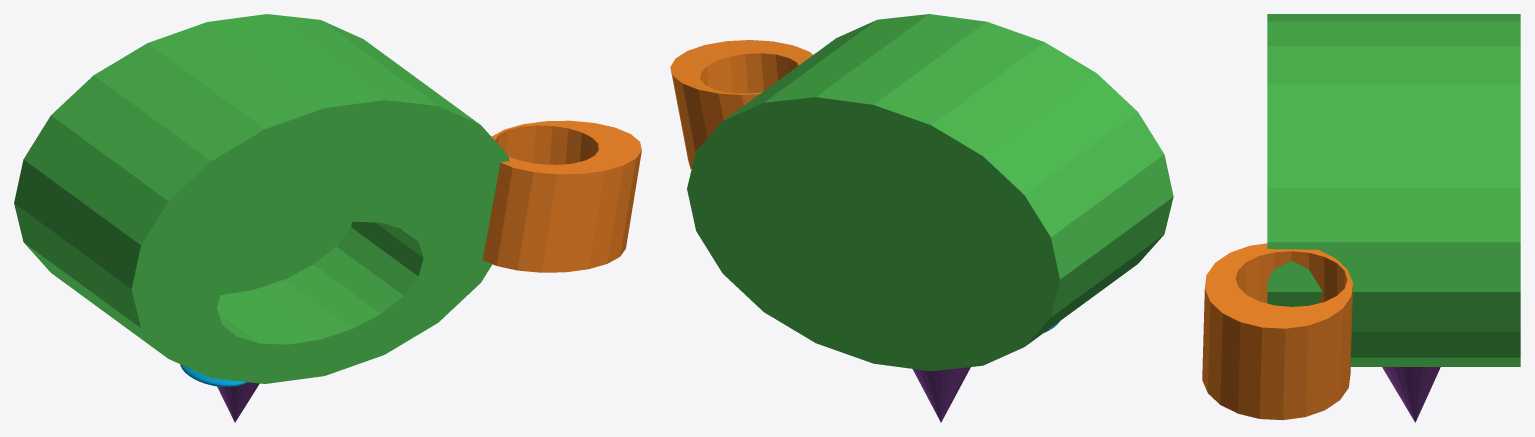
File: tinker.obj
3 views of the same model, side by side, from view 1: azimuth 30°, elevation 25°; view 2: azimuth 150°, elevation 25°; view 3: azimuth 270°, elevation 25° (orthographic). The views are drawn at different scales.
Parts seen in each view (by area): view 1: group_0_4634441, group_0_16089887, group_0_8273816; view 2: group_0_4634441, group_0_16089887, group_0_8273816; view 3: group_0_4634441, group_0_16089887, group_0_8273816.
Boxes of the visible parts, left/top/right/bottom form: group_0_4634441: left=14, top=14, right=509, bottom=383; group_0_16089887: left=482, top=120, right=641, bottom=272; group_0_8273816: left=217, top=382, right=259, bottom=422; group_0_4634441: left=687, top=14, right=1173, bottom=371; group_0_16089887: left=670, top=40, right=812, bottom=169; group_0_8273816: left=912, top=367, right=970, bottom=422; group_0_4634441: left=1267, top=14, right=1520, bottom=366; group_0_16089887: left=1202, top=243, right=1352, bottom=420; group_0_8273816: left=1382, top=367, right=1440, bottom=422.
Bounding box in the file's own units: 113 × 76.59 × 57.
